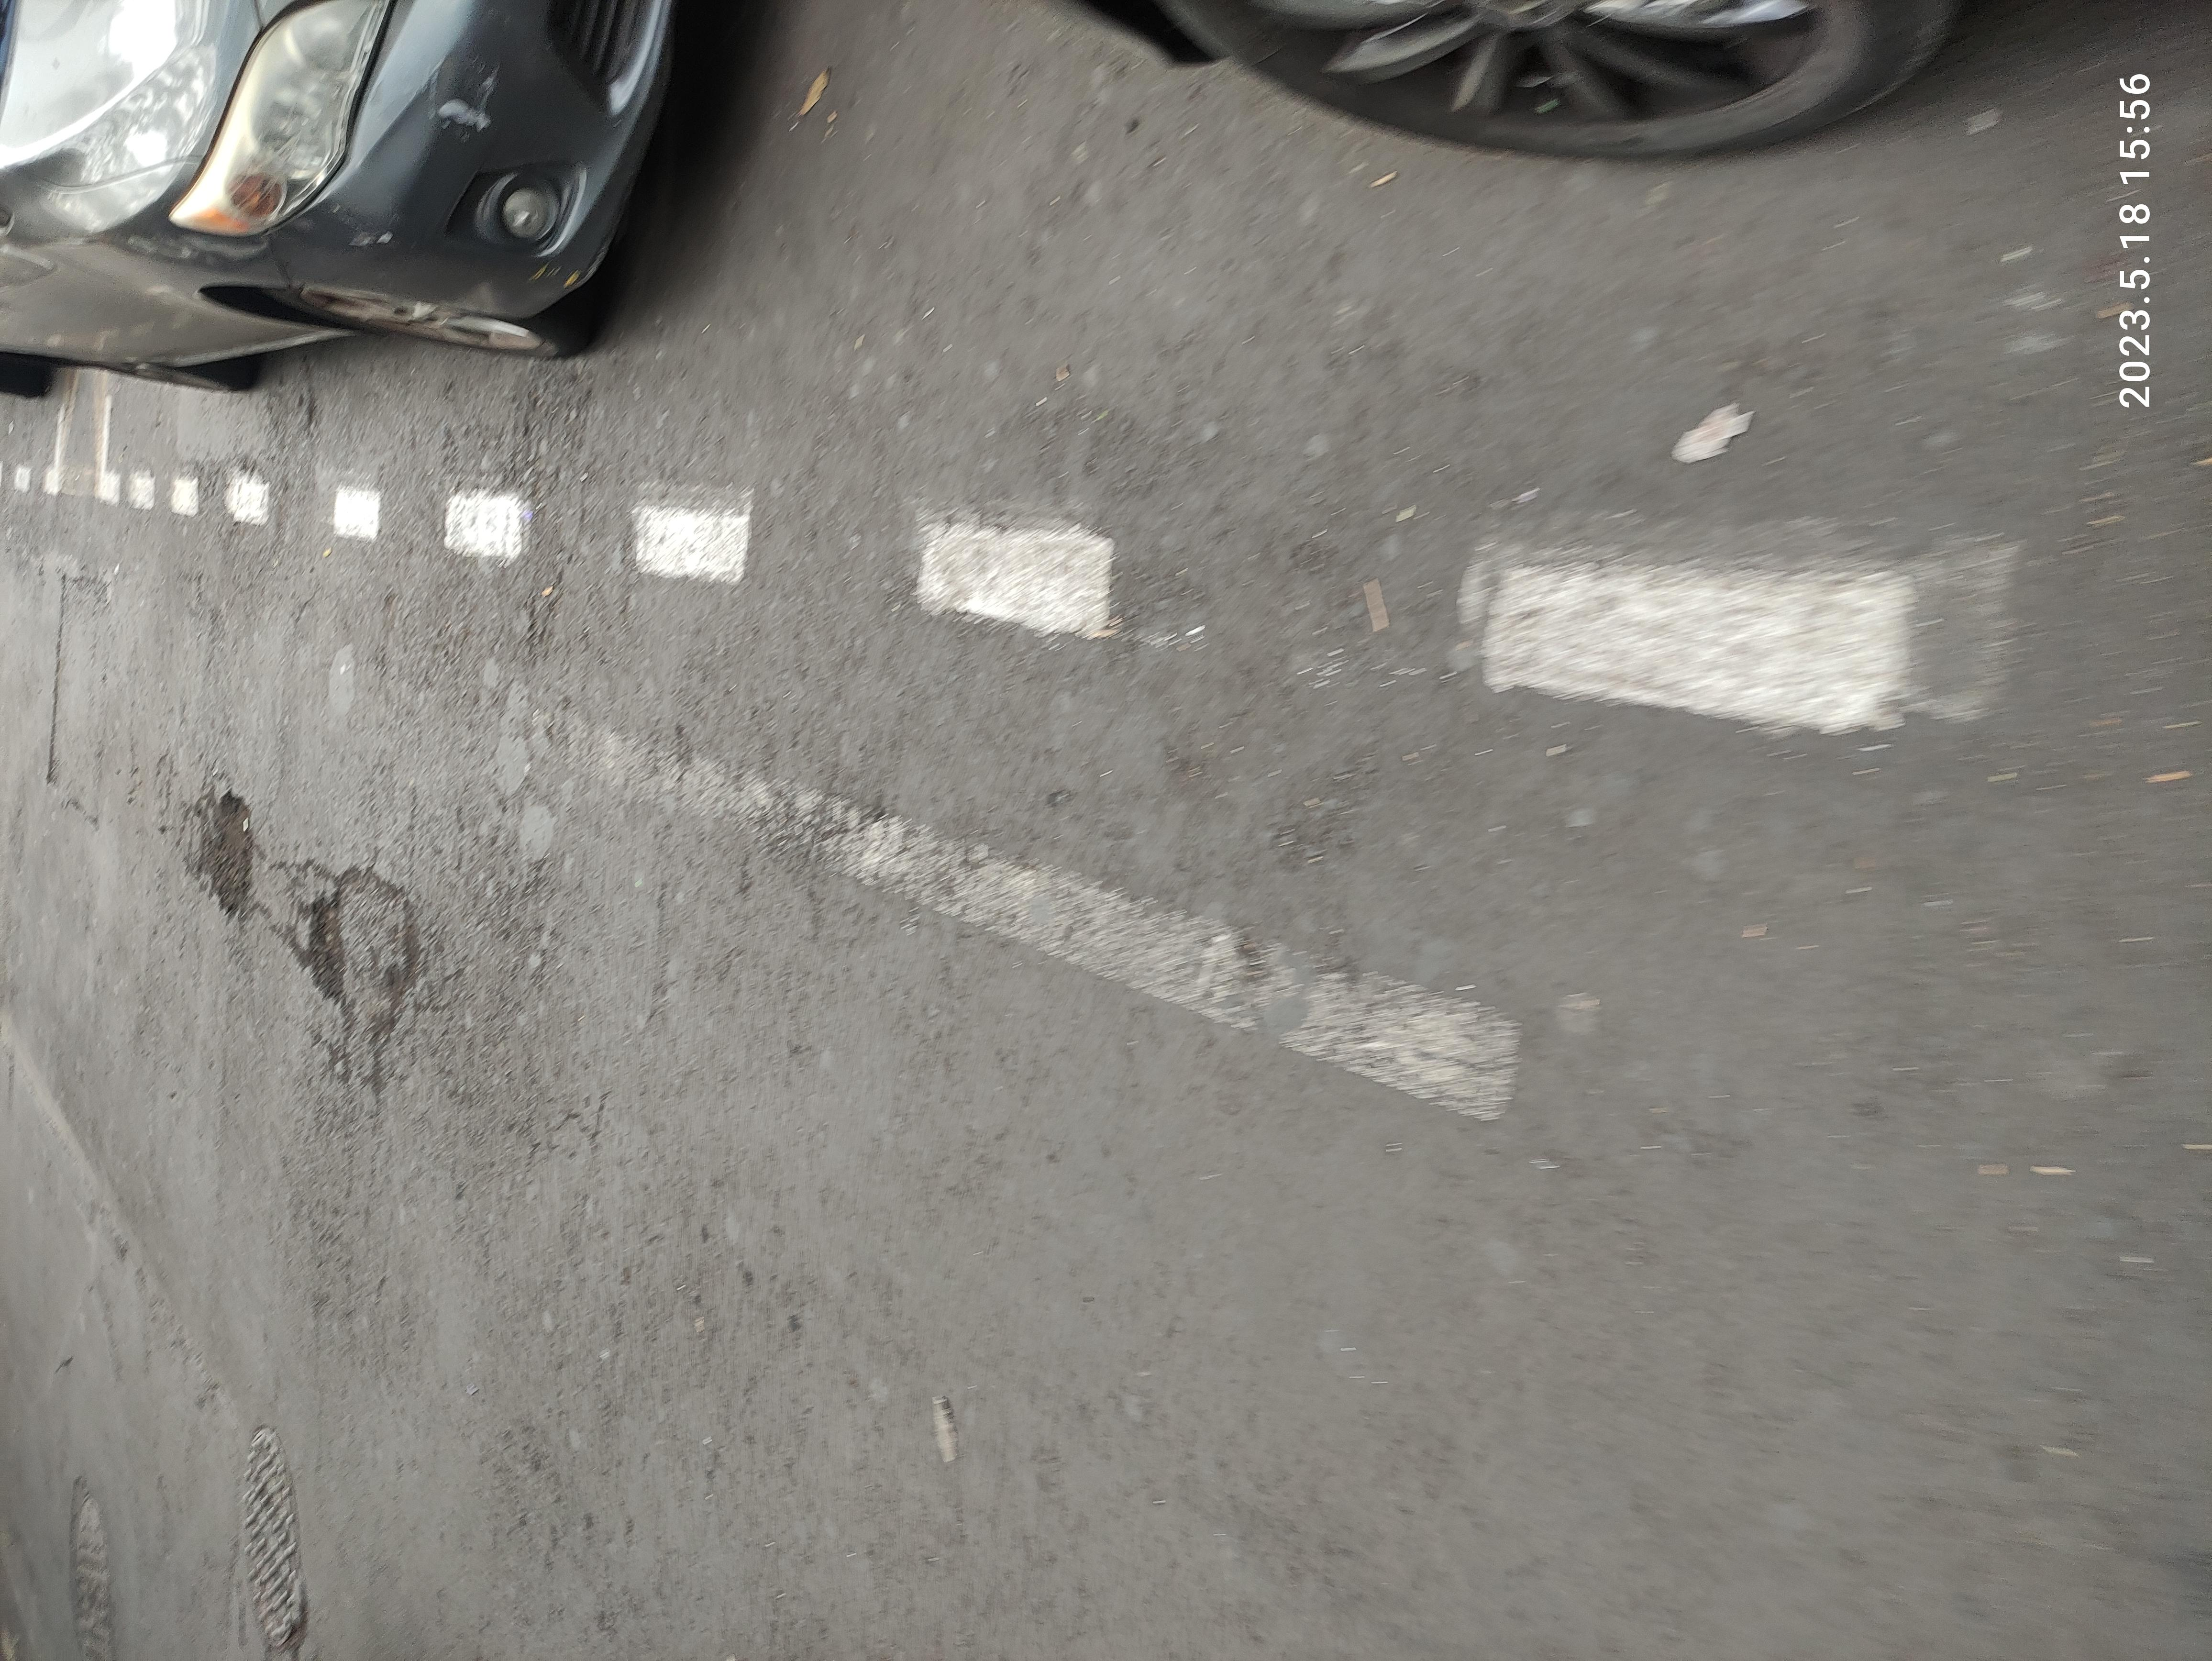alligator-crack: (666, 272, 1125, 452)
crack: (1160, 28, 1460, 58), (1109, 51, 1153, 85)
pothole: (987, 141, 1174, 199), (869, 218, 1050, 267)
